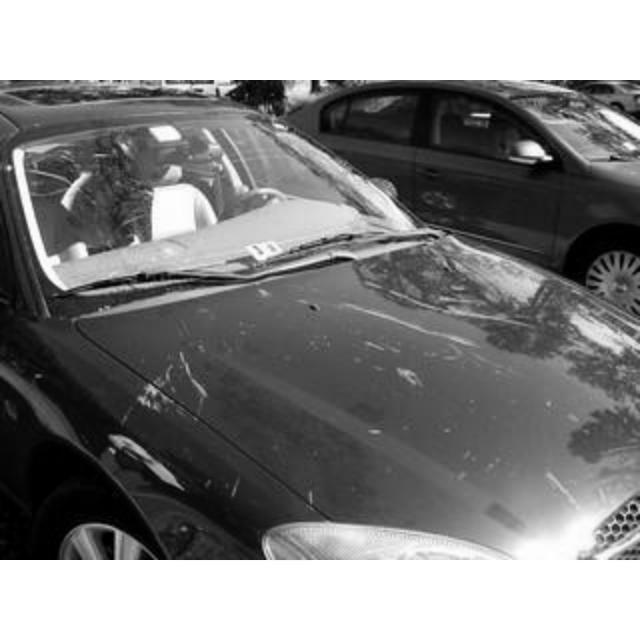bonnet-dent: (162, 272, 594, 466)
